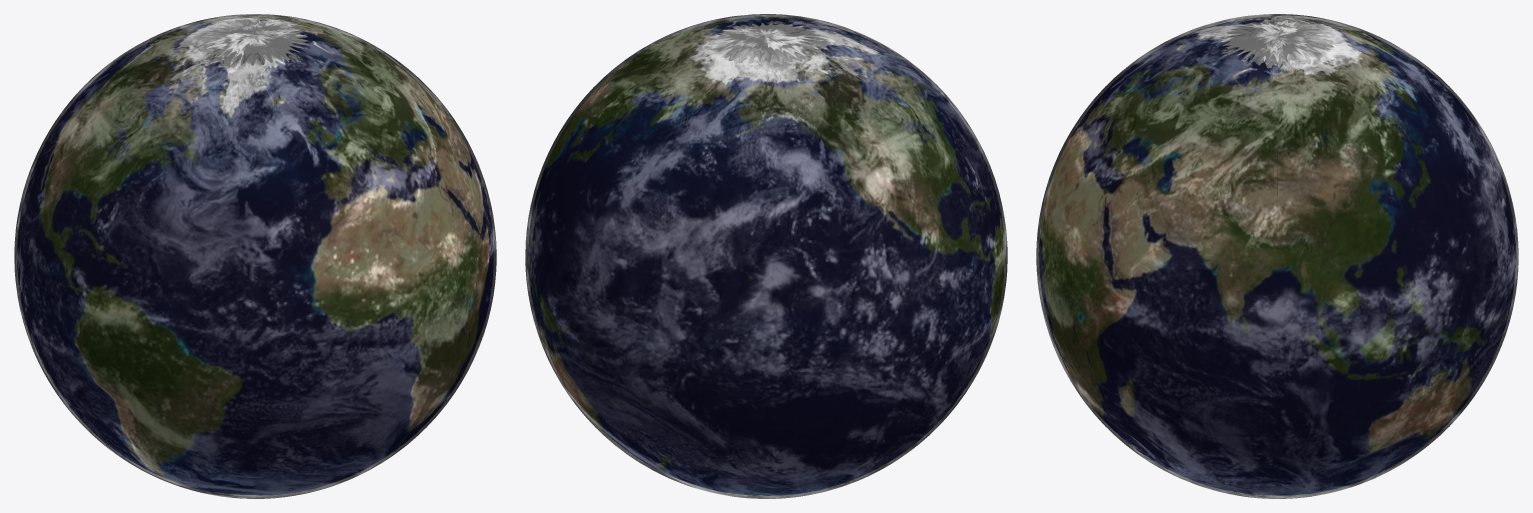
The model's file is earth.glb.
3 views of the same model, side by side, from view 1: azimuth 30°, elevation 25°; view 2: azimuth 150°, elevation 25°; view 3: azimuth 270°, elevation 25° (orthographic).
Parts seen in each view (by area): view 1: Clouds, Earth_Earth_0; view 2: Clouds, Earth_Earth_0; view 3: Clouds, Earth_Earth_0.
Part boxes in pixels (left/top/right/bottom): Clouds: left=14, top=14, right=496, bottom=498; Earth_Earth_0: left=17, top=17, right=493, bottom=495; Clouds: left=525, top=14, right=1007, bottom=498; Earth_Earth_0: left=528, top=17, right=1004, bottom=495; Clouds: left=1036, top=14, right=1518, bottom=498; Earth_Earth_0: left=1039, top=17, right=1515, bottom=495.
Bounding box in the file's own units: 1984 × 2005 × 1984.
Materials: 2 (2 with a texture image).
